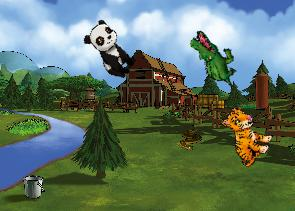crocodile: (179, 28, 248, 89)
panda: (79, 17, 142, 83)
tiger: (209, 103, 279, 171)
